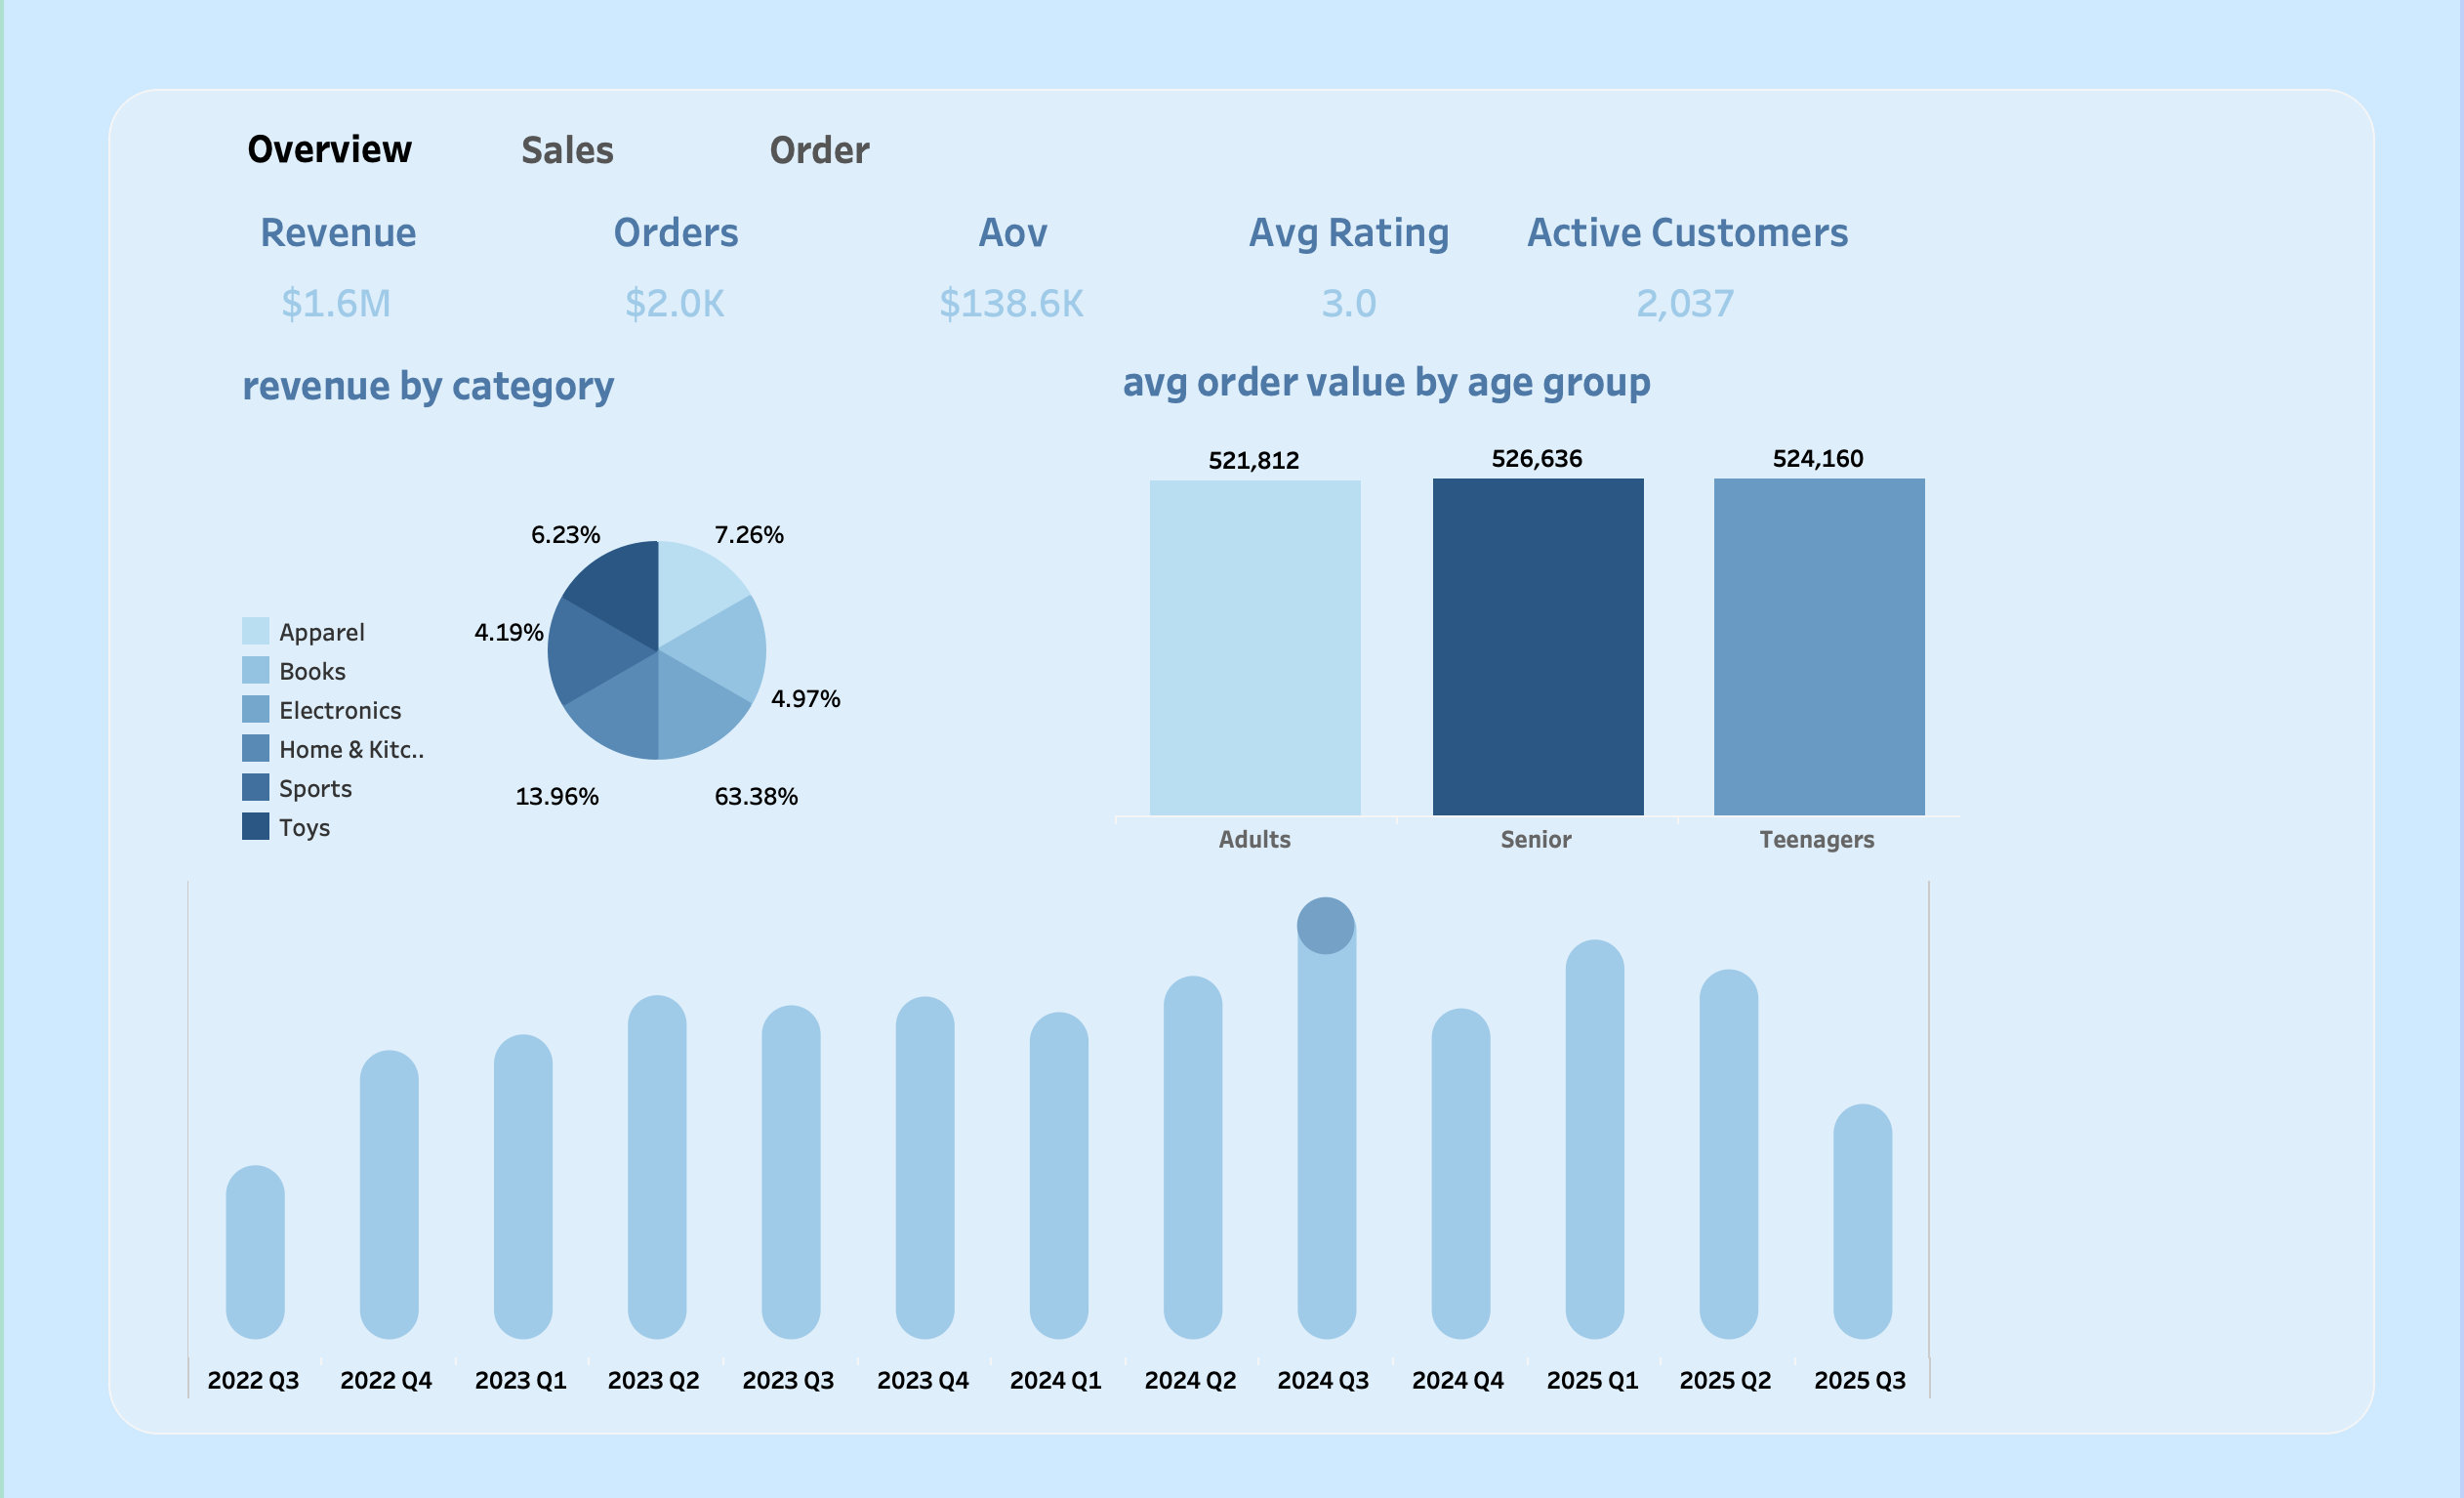

The page's visual inventory and layout, read from the dashboard file:
{"tool":"tableau","page":{"name":"Dashboard 1","canvas":[1300,800],"ordinal":0},"visuals":[{"type":"image","param":"/Users/harrisonxu/Desktop/Green - Blue Background.png","box":[0,0,1300,800]},{"type":"worksheet","title":"Sheet 5","mark":"Automatic","box":[20,30,1258,770]},{"type":"dashboard-object","box":[355,82,166,48]},{"type":"text","box":[142,83,120,45]},{"type":"dashboard-object","box":[227,83,164,46]},{"type":"worksheet","title":"KPI-Revenue","mark":"Text","box":[105,122,864,86]},{"type":"worksheet","title":"avg order value by age group","mark":"Automatic","rows":["avg_order_value"],"cols":["age_group (kpi_orders_daily.csv)"],"box":[589,207,433,262]},{"type":"worksheet","title":"revenue by category","mark":"Pie","box":[138,209,433,266]},{"type":"legend","title":"revenue by category","param":"[federated.19ft8re1ionaq41966fgz0bz92yb].[none:category (kpi_orders_daily.csv):n","box":[139,343,105,131]},{"type":"worksheet","title":"sales","mark":"Automatic","rows":["revenue (kpi_orders_daily.csv)"],"cols":["order_dt"],"box":[114,481,893,266]}]}

Visuals, with their boxes in screenshot pixels (x1, y1, x2, y2), scaled from the page's 1300x800 canvas onto the 2464x1498 screenshot:
image: [left=0, top=0, right=2463, bottom=1497]
"Sheet 5" worksheet: [left=38, top=57, right=2422, bottom=1497]
dashboard-object: [left=673, top=153, right=988, bottom=243]
text: [left=269, top=155, right=497, bottom=239]
dashboard-object: [left=431, top=155, right=741, bottom=241]
"KPI-Revenue" worksheet (Text marks): [left=199, top=229, right=1836, bottom=390]
"avg order value by age group" worksheet: [left=1117, top=388, right=1937, bottom=878]
"revenue by category" worksheet (Pie marks): [left=262, top=392, right=1083, bottom=890]
"revenue by category" legend: [left=264, top=643, right=463, bottom=888]
"sales" worksheet: [left=216, top=900, right=1909, bottom=1398]
